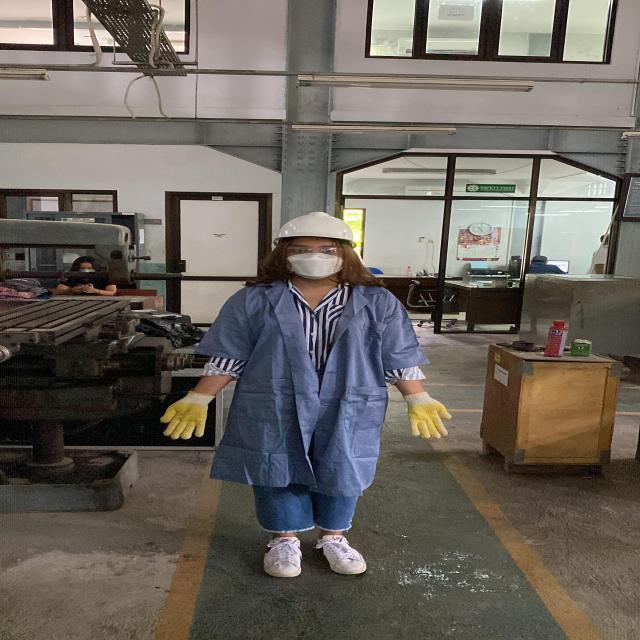glasses: (280, 244, 350, 260)
